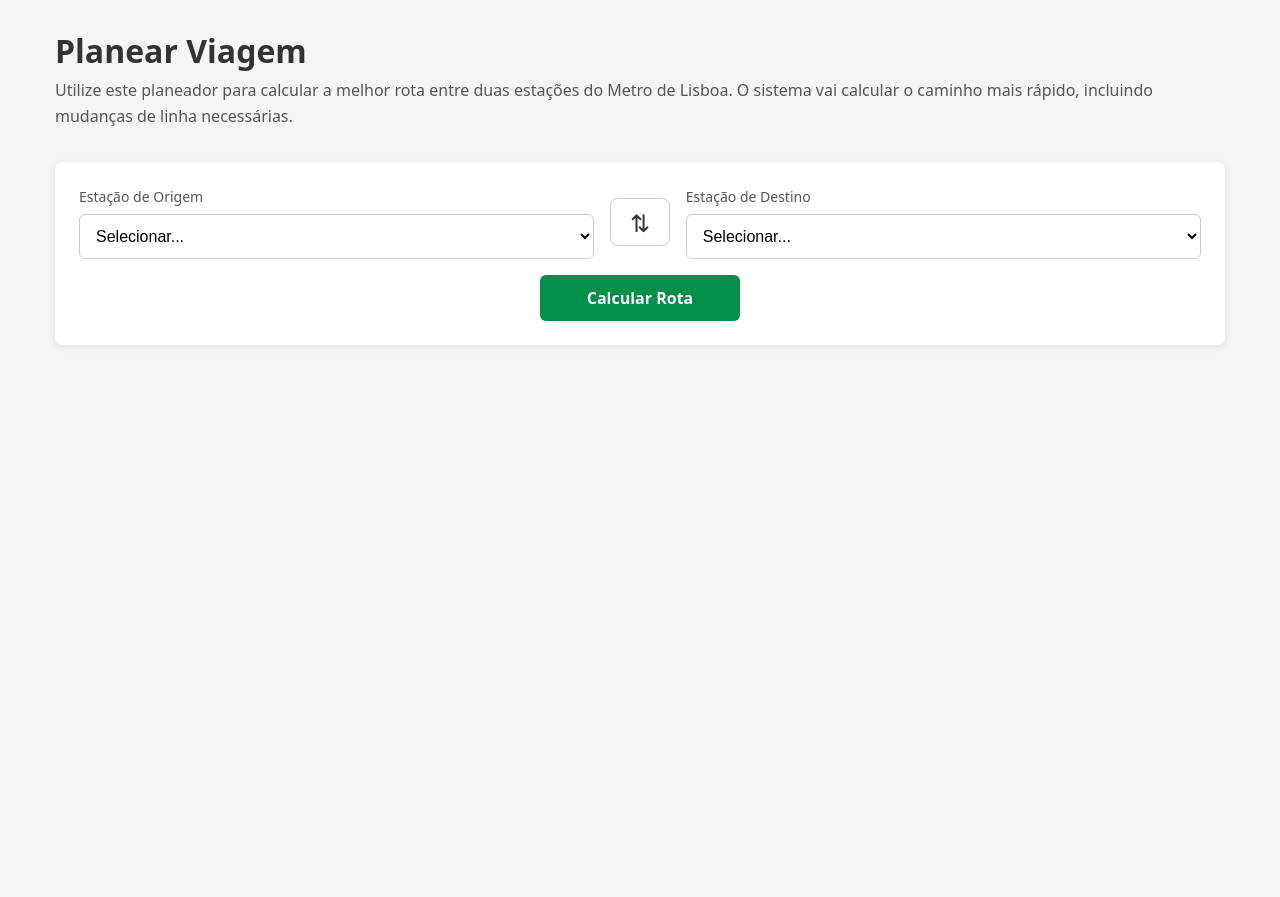
Test case: PlanearViagem › calculates and displays route results
The width and height of the screenshot is (1280, 897).
Select "Reboleira" in the dropdown labelled "Estação de Origem" at coordinates (337, 236), box [79,214,594,259]
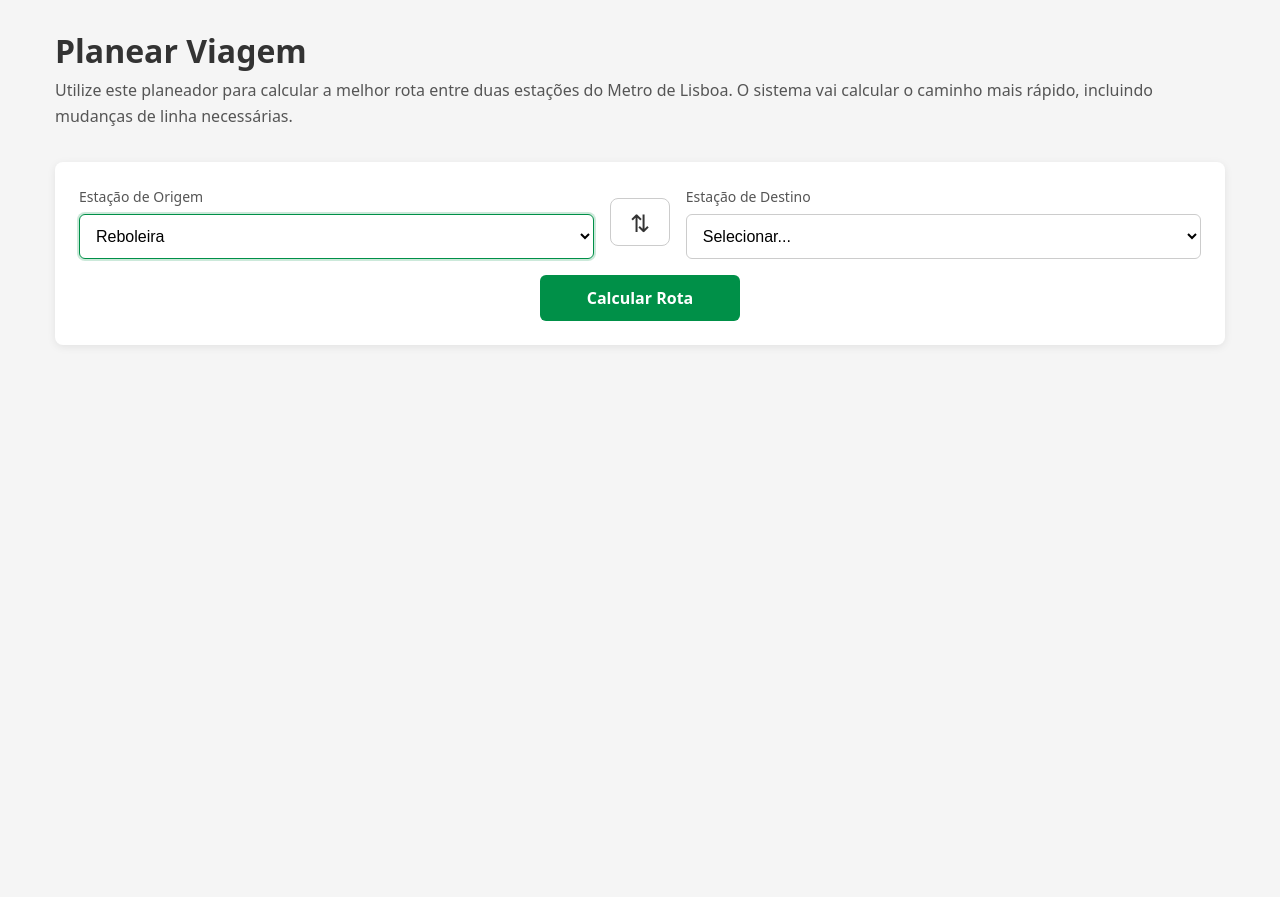
Select "Saldanha" in the dropdown labelled "Estação de Destino" at coordinates (943, 236), box [686,214,1201,259]
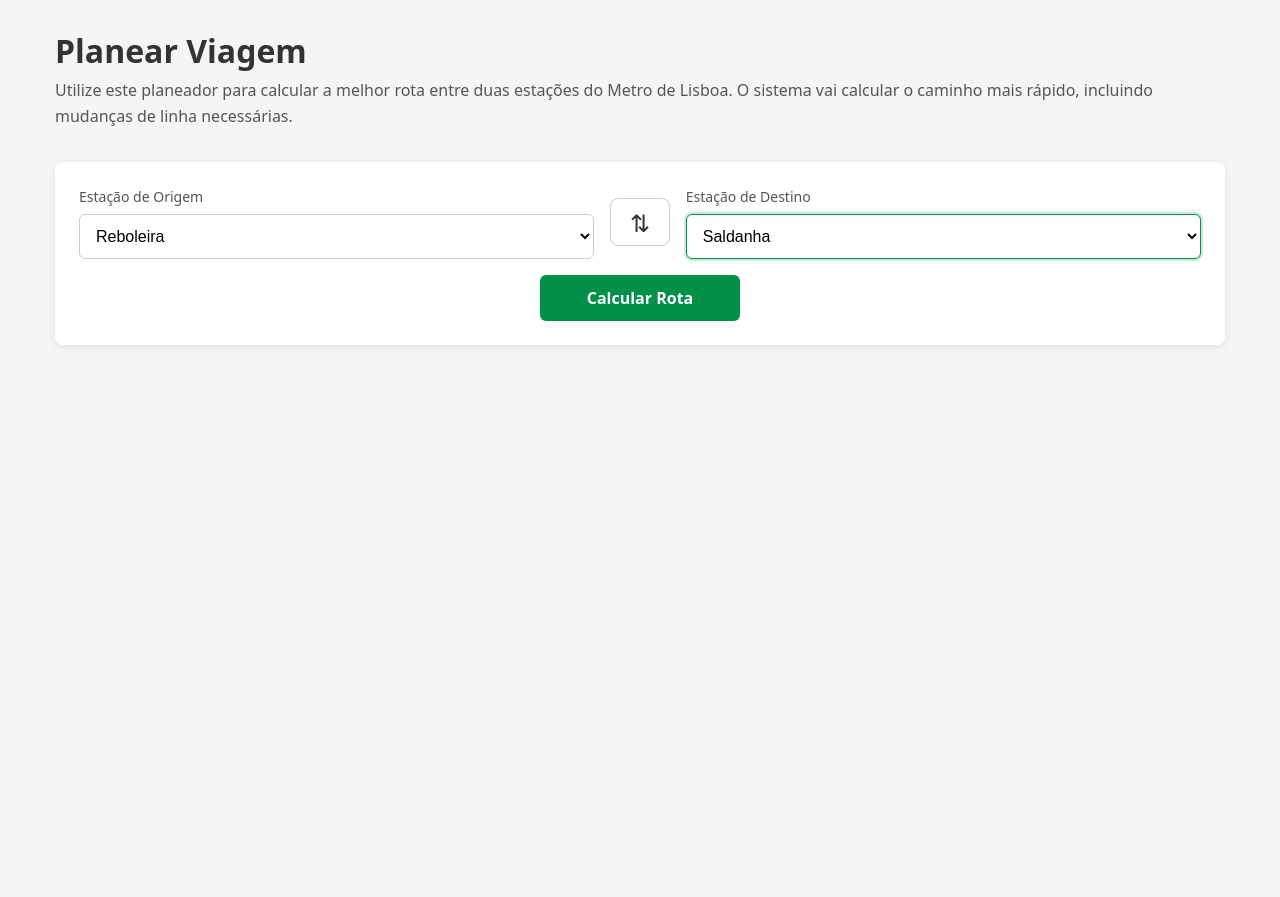
Click the button "Calcular Rota" at coordinates (640, 298), box [540,275,740,321]
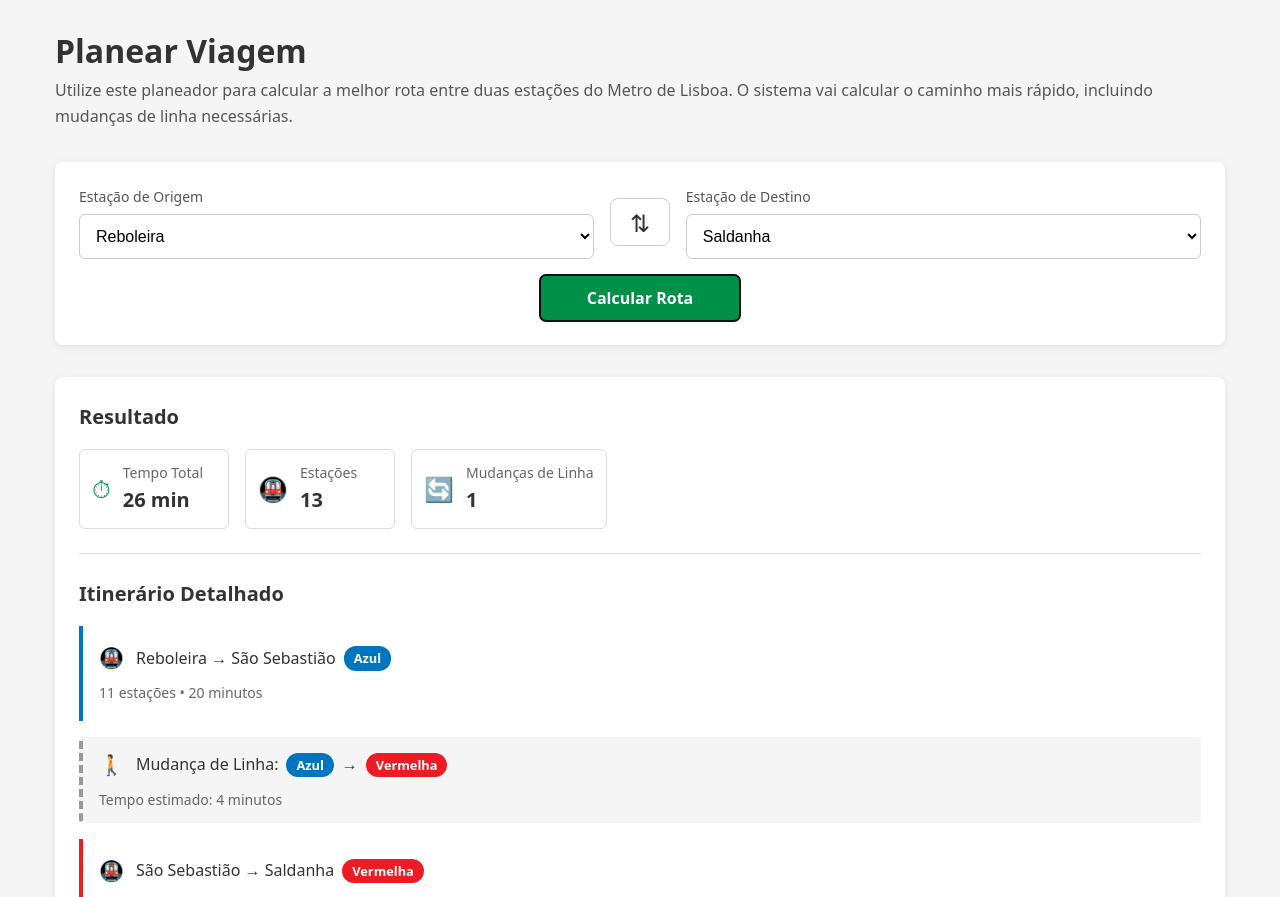
Expected: the heading "Resultado" is shown, [79,403,179,430]
Expected: the text "Tempo Total" is shown, [123,462,216,484]
Expected: the text "Estações" is shown, [300,463,357,482]
